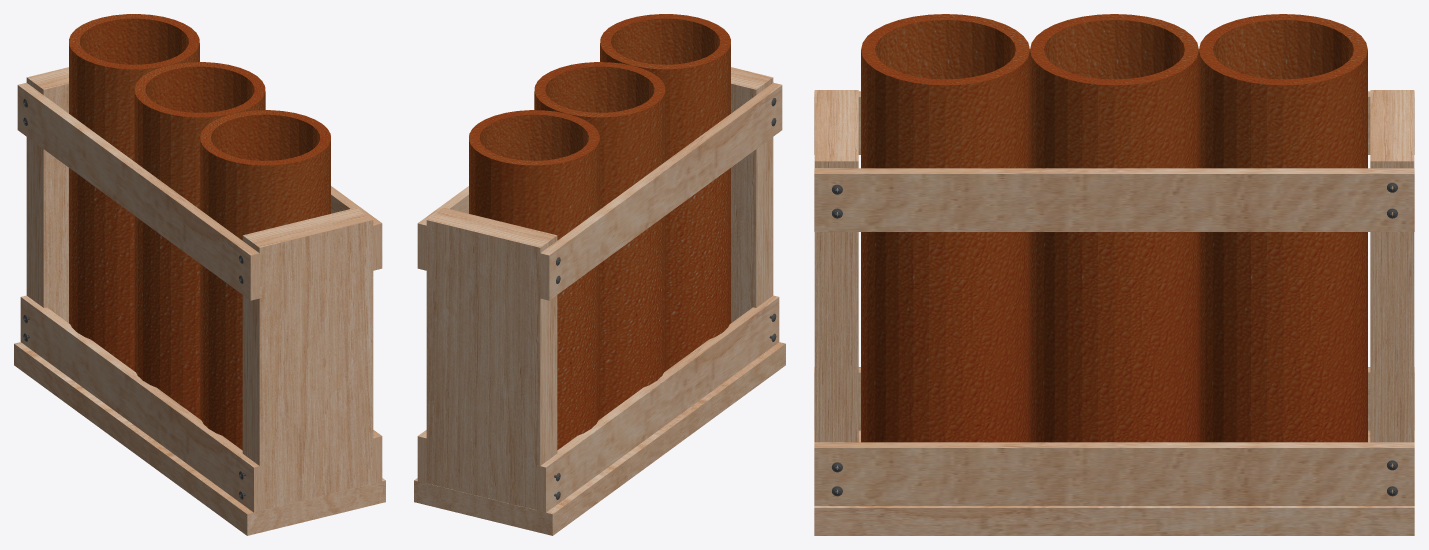
File: OrangeHDPE10inchTUBE.fbx
The picture shows the model from 3 angles, left to right: view 1: azimuth 30°, elevation 25°; view 2: azimuth 150°, elevation 25°; view 3: azimuth 270°, elevation 25°; orthographic projection. The views are drawn at different scales.
Parts seen in each view (by area): view 1: Cube.002, Cylinder.001, Cylinder.002, Cylinder.003, Cube.004, Cube.006, Cube, Cube.001, Cube.005, Cube.003; view 2: Cube.001, Cylinder.001, Cylinder.003, Cylinder.002, Cube.004, Cube.006, Cube, Cube.002, Cube.005, Cube.003; view 3: Cylinder.001, Cylinder.002, Cylinder.003, Cube.003, Cube.005, Cube, Cube.001, Cube.002.
Boxes of the visible parts, x1=… form: Cube.002: x1=242, y1=208, x2=373, y2=510; Cylinder.001: x1=134, y1=62, x2=265, y2=418; Cylinder.002: x1=69, y1=14, x2=199, y2=370; Cylinder.003: x1=200, y1=110, x2=330, y2=450; Cube.004: x1=17, y1=82, x2=259, y2=300; Cube.006: x1=20, y1=295, x2=262, y2=512; Cube: x1=14, y1=342, x2=385, y2=535; Cube.001: x1=26, y1=67, x2=68, y2=322; Cube.005: x1=331, y1=186, x2=382, y2=270; Cube.003: x1=373, y1=430, x2=382, y2=483; Cube.001: x1=426, y1=208, x2=557, y2=510; Cylinder.001: x1=534, y1=62, x2=665, y2=418; Cylinder.003: x1=600, y1=14, x2=730, y2=370; Cylinder.002: x1=469, y1=110, x2=599, y2=450; Cube.004: x1=540, y1=82, x2=782, y2=300; Cube.006: x1=537, y1=295, x2=779, y2=512; Cube: x1=414, y1=342, x2=785, y2=535; Cube.002: x1=731, y1=67, x2=773, y2=322; Cube.005: x1=417, y1=186, x2=468, y2=270; Cube.003: x1=417, y1=430, x2=426, y2=483; Cylinder.001: x1=1030, y1=14, x2=1198, y2=442; Cylinder.002: x1=1199, y1=14, x2=1367, y2=442; Cylinder.003: x1=861, y1=14, x2=1029, y2=442; Cube.003: x1=814, y1=442, x2=1414, y2=505; Cube.005: x1=814, y1=168, x2=1414, y2=231; Cube: x1=814, y1=430, x2=1414, y2=535; Cube.001: x1=1370, y1=90, x2=1414, y2=442; Cube.002: x1=814, y1=90, x2=858, y2=442.
Bounding box in the file's own units: 0.4391 × 1.04 × 1.28.
20 materials, 4 textured.
